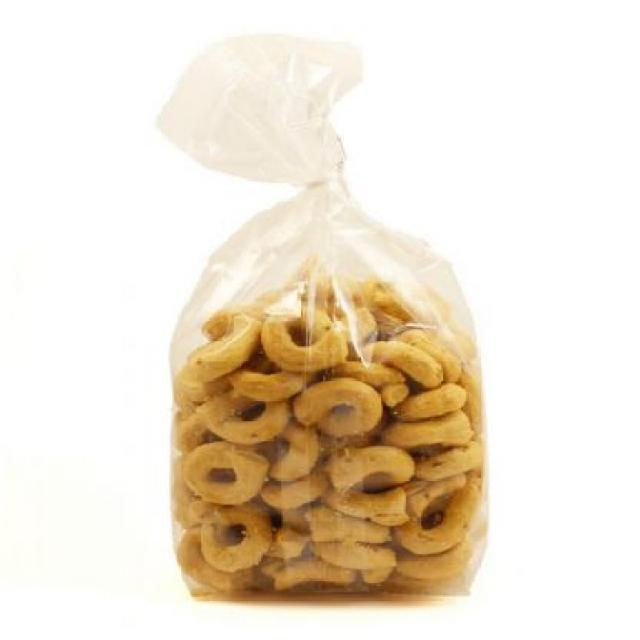Taralli: (188, 346, 460, 572)
